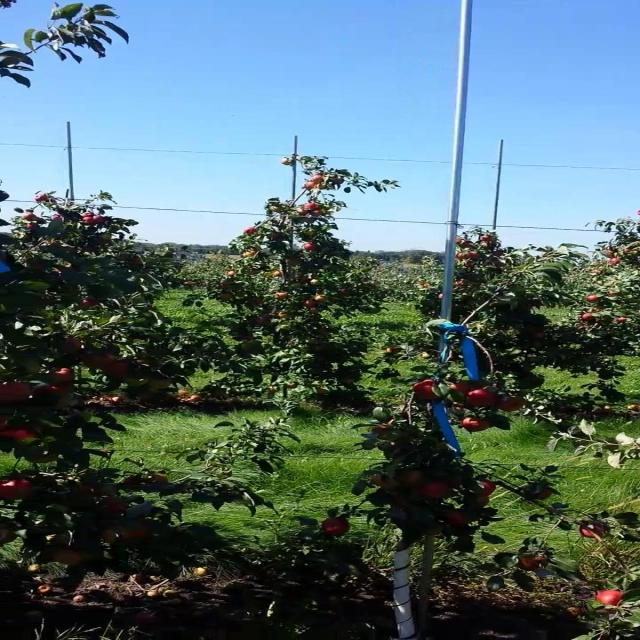apple: (106, 528, 149, 543), (468, 388, 500, 408), (6, 480, 36, 500), (6, 384, 36, 403), (412, 380, 439, 401), (106, 528, 149, 540), (84, 352, 114, 369), (518, 556, 548, 572), (6, 428, 37, 443), (497, 396, 526, 412), (596, 592, 626, 607), (49, 368, 76, 384), (582, 524, 610, 539), (63, 336, 85, 355), (326, 520, 350, 536), (56, 552, 85, 565), (106, 364, 132, 378), (461, 420, 491, 432), (42, 384, 71, 396), (369, 476, 398, 488), (426, 484, 450, 498), (447, 384, 476, 395), (447, 512, 469, 526), (106, 500, 128, 513), (404, 472, 425, 485), (127, 376, 148, 388), (483, 480, 498, 495), (148, 380, 171, 389), (77, 484, 96, 494), (127, 476, 142, 488), (376, 480, 398, 488), (156, 476, 171, 484), (540, 492, 555, 500), (376, 428, 389, 436), (483, 496, 491, 505)
